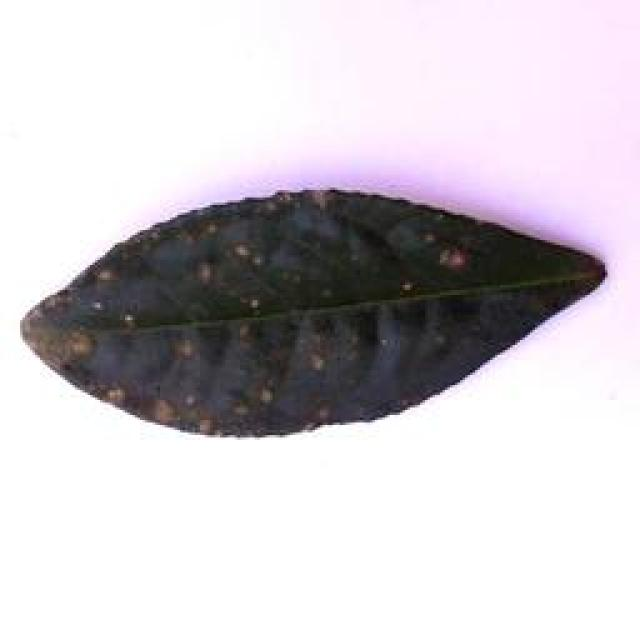Algal Leaf Spot: (2, 182, 640, 460)
